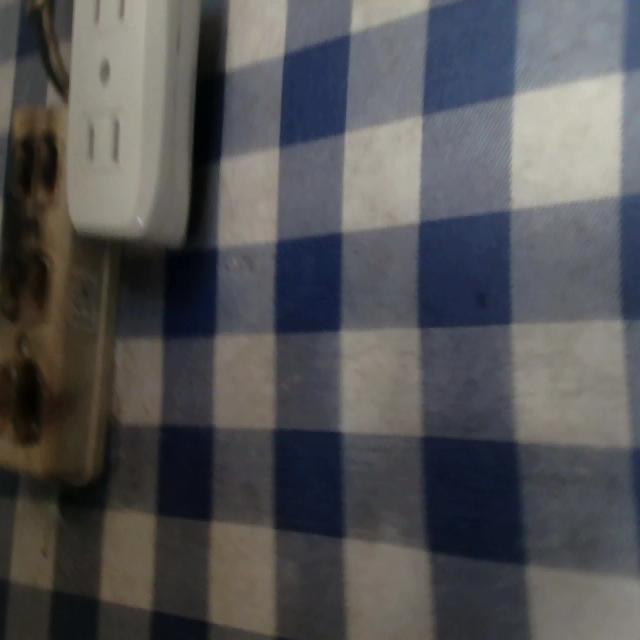-: (0, 359, 58, 441), (0, 239, 54, 312), (13, 119, 60, 201)
